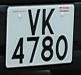0: (54, 34, 70, 62)
4: (11, 36, 26, 67)
7: (25, 34, 41, 65)
8: (40, 35, 55, 63)
K: (40, 8, 56, 37)
V: (26, 8, 42, 38)
